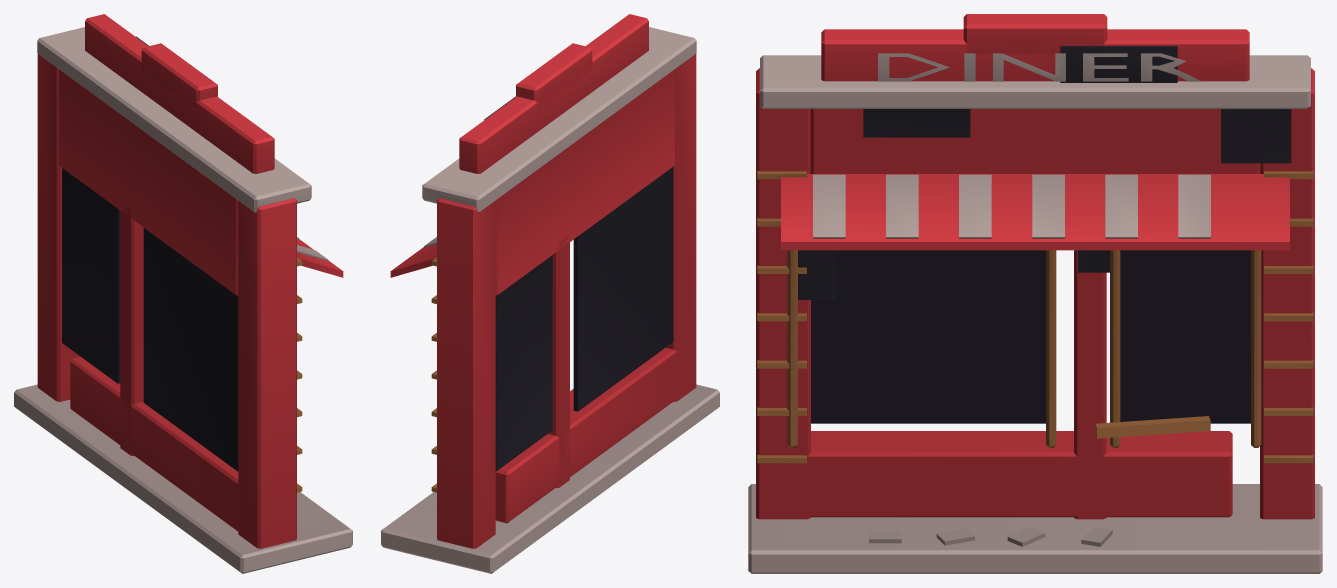
The model's file is decay.burned-facade.diner.glb.
3 renders of one model, left to right at view 1: azimuth 30°, elevation 25°; view 2: azimuth 150°, elevation 25°; view 3: azimuth 270°, elevation 25°, orthographic. The views are drawn at different scales.
Bounding box in the file's own units: 1.28 × 4.39 × 4.4.
